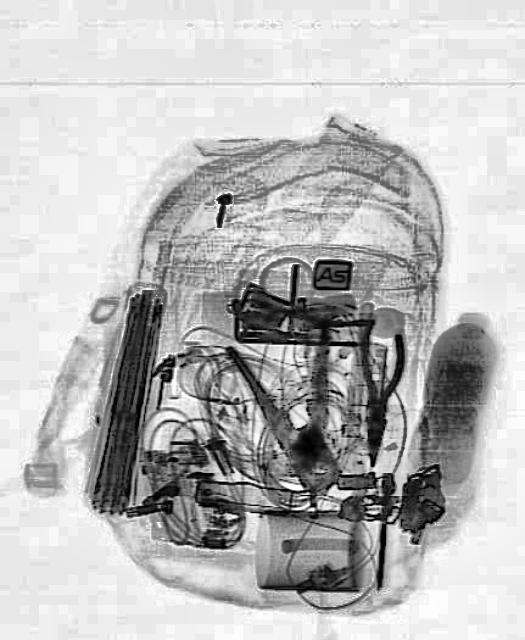Pliers: (226, 304, 378, 508), (349, 317, 405, 468)
